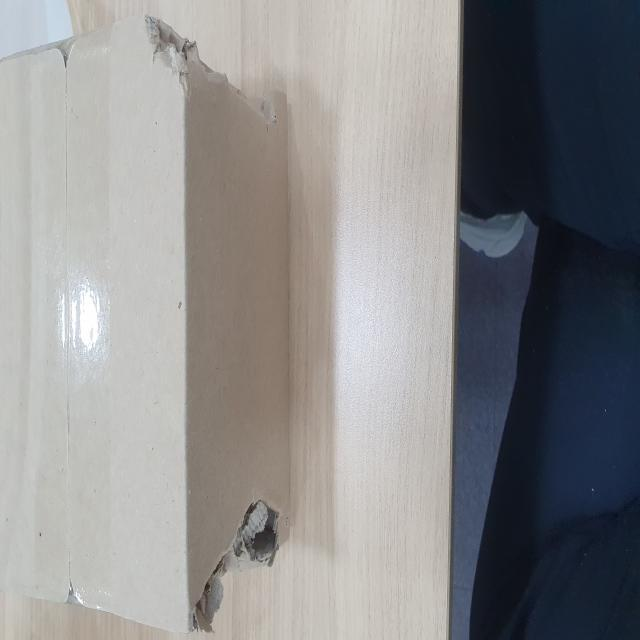hole: (190, 500, 278, 618)
